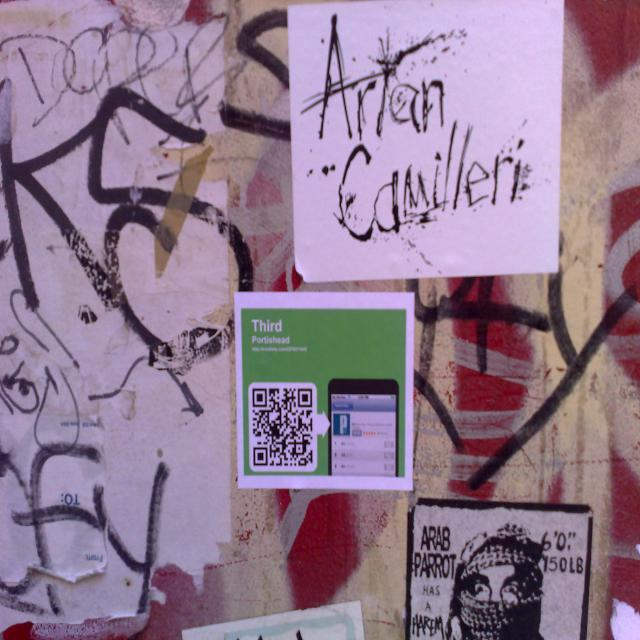qr-code: (252, 388, 312, 466)
